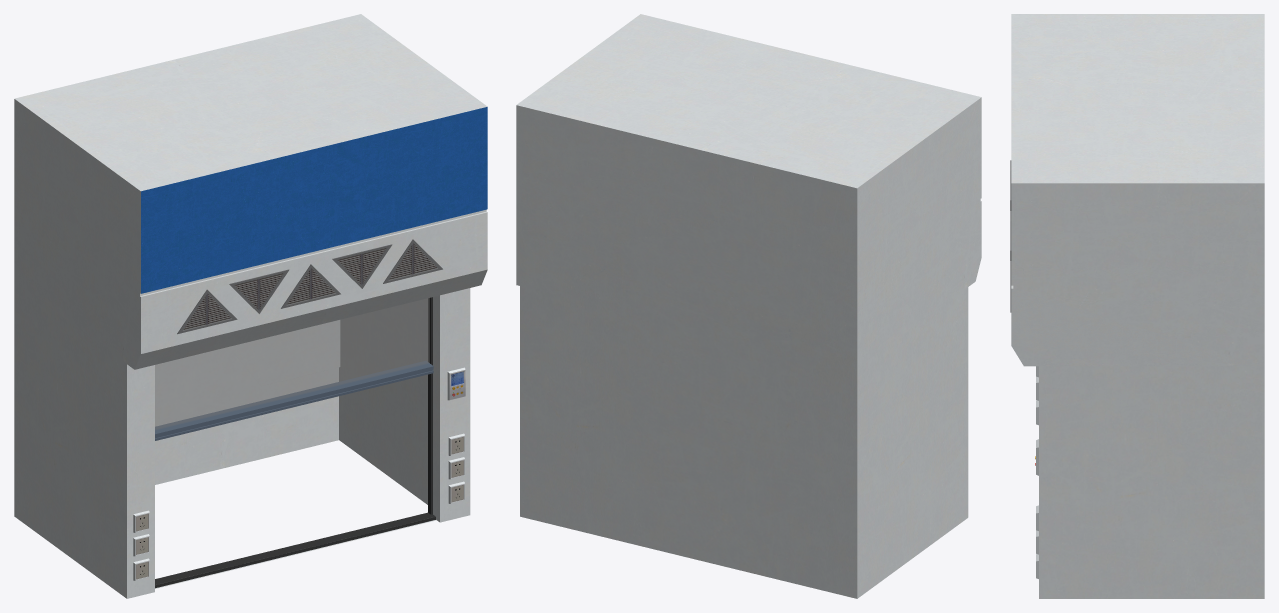
Rendered from SM_通风橱.FBX.
The picture shows the model from 3 angles, left to right: view 1: azimuth 30°, elevation 25°; view 2: azimuth 150°, elevation 25°; view 3: azimuth 270°, elevation 25°; orthographic projection.
Visible parts, largest first — view 1: SM_通风橱, SM_通风橱 门; view 2: SM_通风橱; view 3: SM_通风橱.
Boxes of the visible parts, bbox=[...] form: SM_通风橱: bbox=[14, 14, 487, 598]; SM_通风橱 门: bbox=[155, 298, 433, 440]; SM_通风橱: bbox=[516, 14, 981, 598]; SM_通风橱: bbox=[1010, 14, 1264, 598].
Size of the model in its own units: 1.42 by 0.9041 by 1.64.
